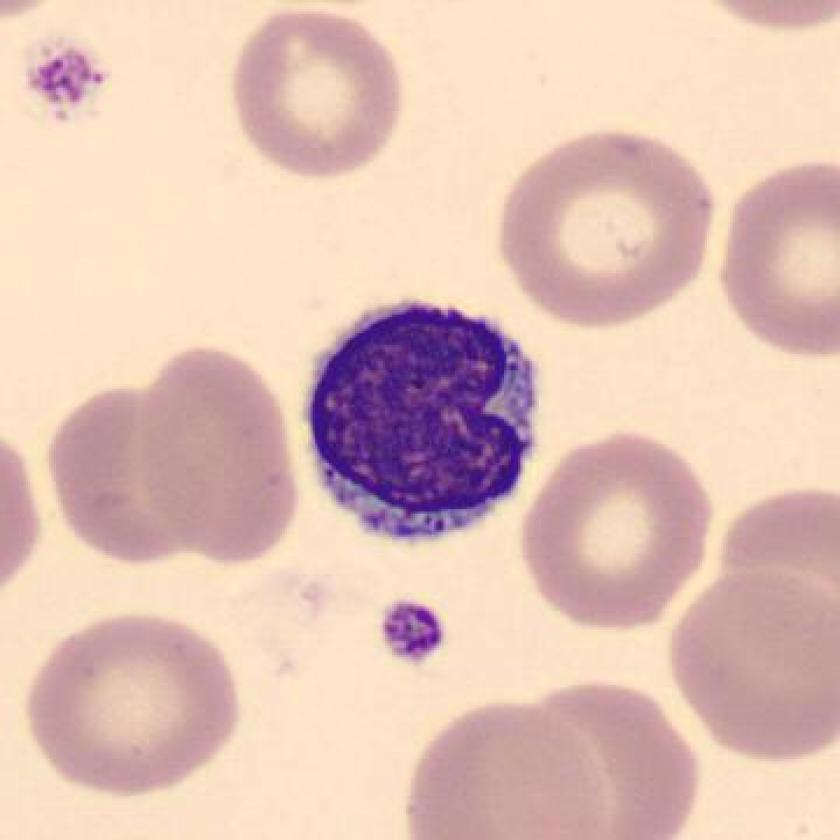lymphocyte: (297, 286, 547, 556)
